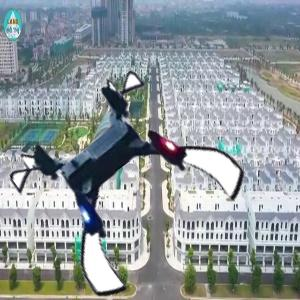drone: (31, 82, 229, 280)
